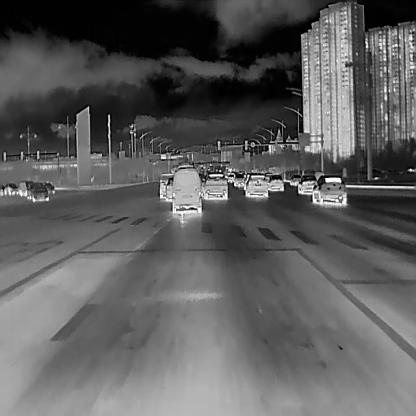car: (171, 167, 201, 213), (311, 174, 346, 205), (202, 171, 228, 199), (246, 173, 267, 196), (297, 175, 316, 193), (32, 184, 49, 202), (160, 173, 172, 198), (18, 180, 32, 198), (268, 174, 283, 190), (165, 177, 173, 201), (4, 182, 17, 196), (233, 172, 243, 186), (44, 182, 54, 193), (290, 174, 300, 184)
